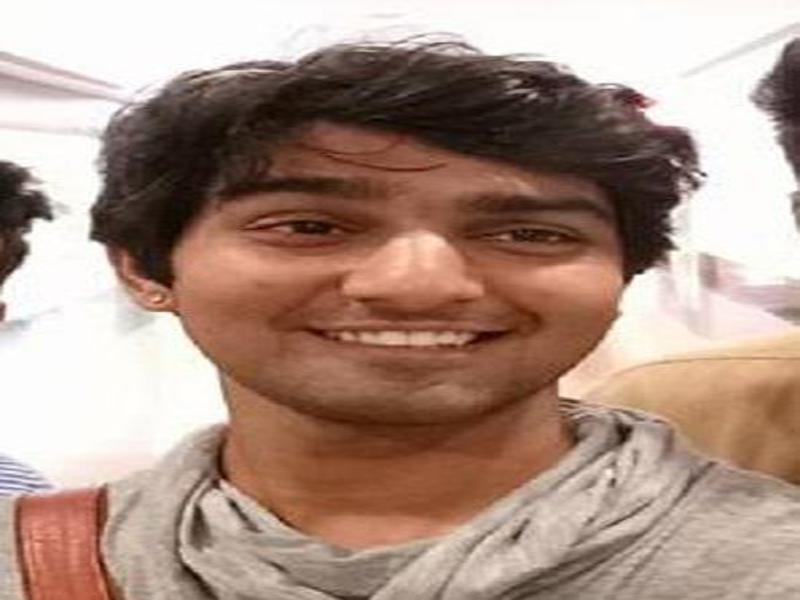without_mask: (165, 136, 631, 434)
